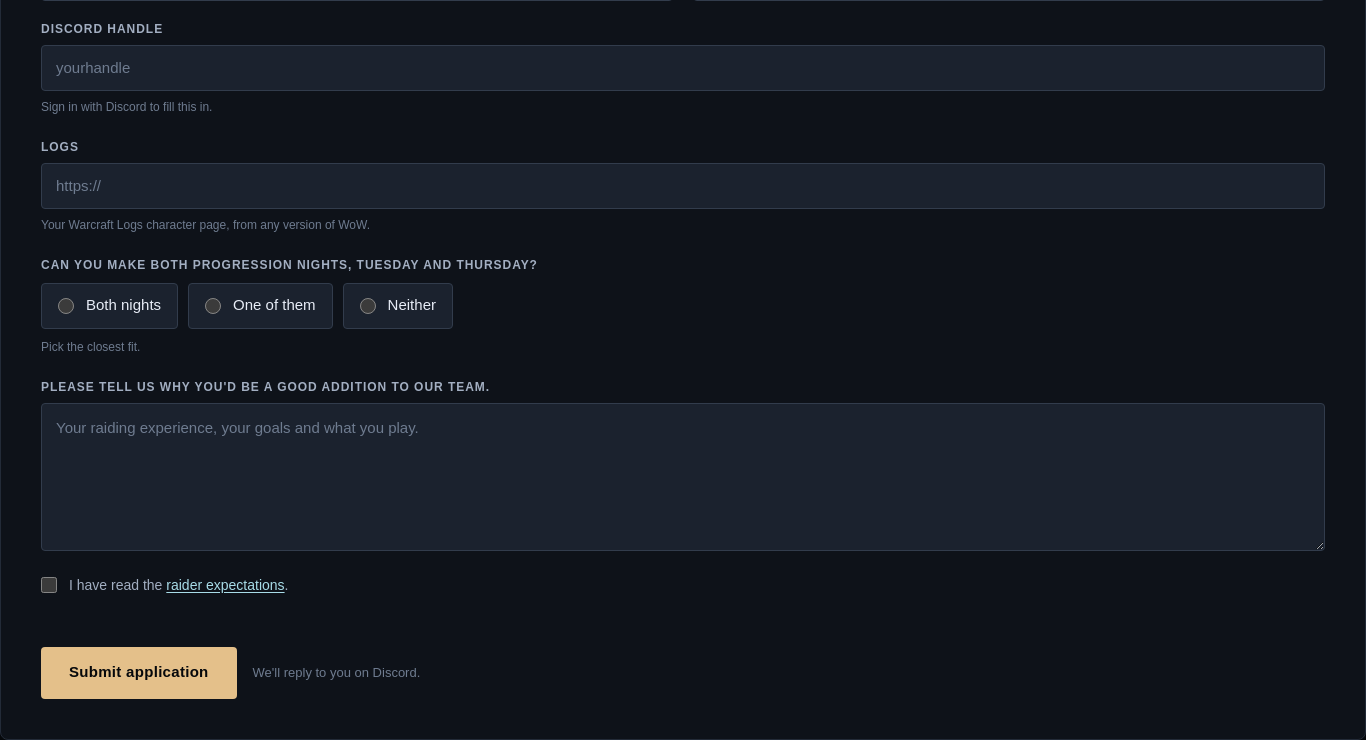
Test: ApplicationForm tickbox › ticks the agreement from the label text
(page scrolled)
Expected: the checkbox named "agree" is not checked, [41,576,57,592]
Click the element showing "I have read the raider expectations .". click: (179, 585)
box: [69,574,288,596]
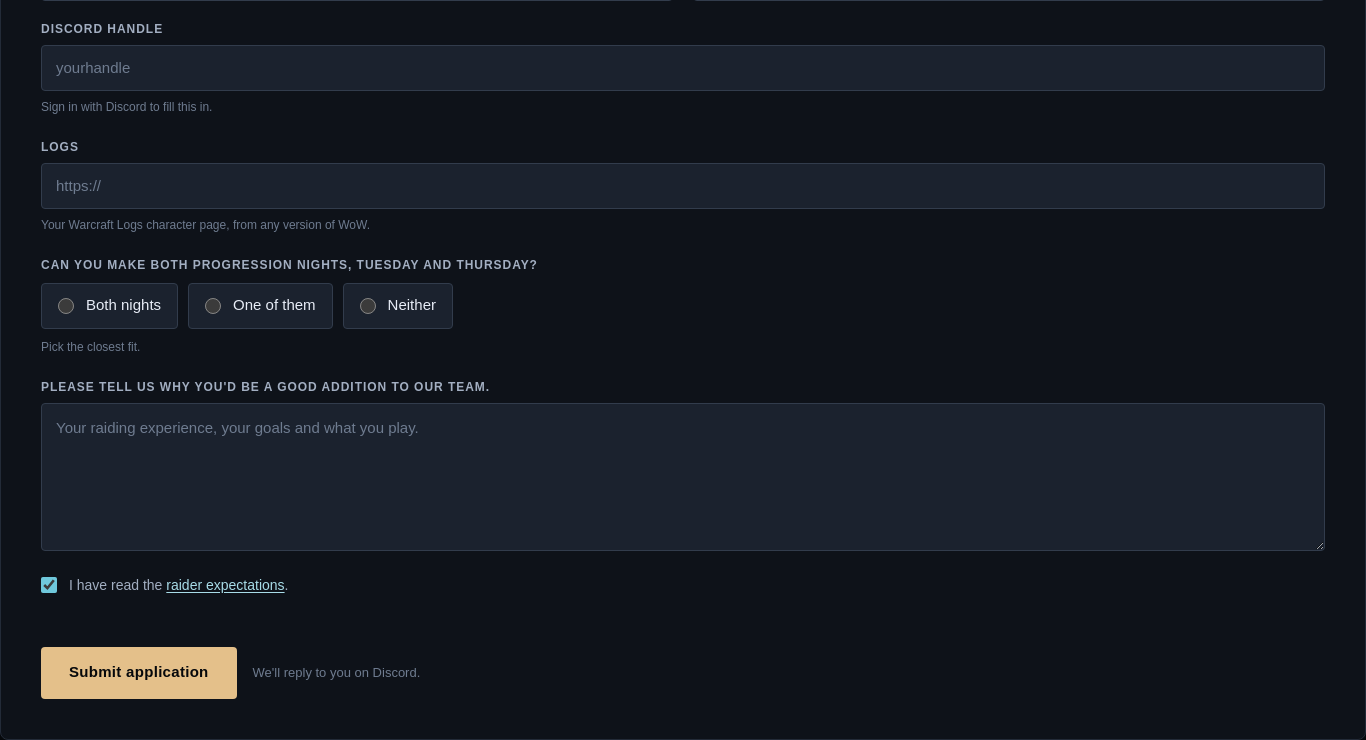
Expected: the checkbox named "agree" is checked, [41,576,57,592]
